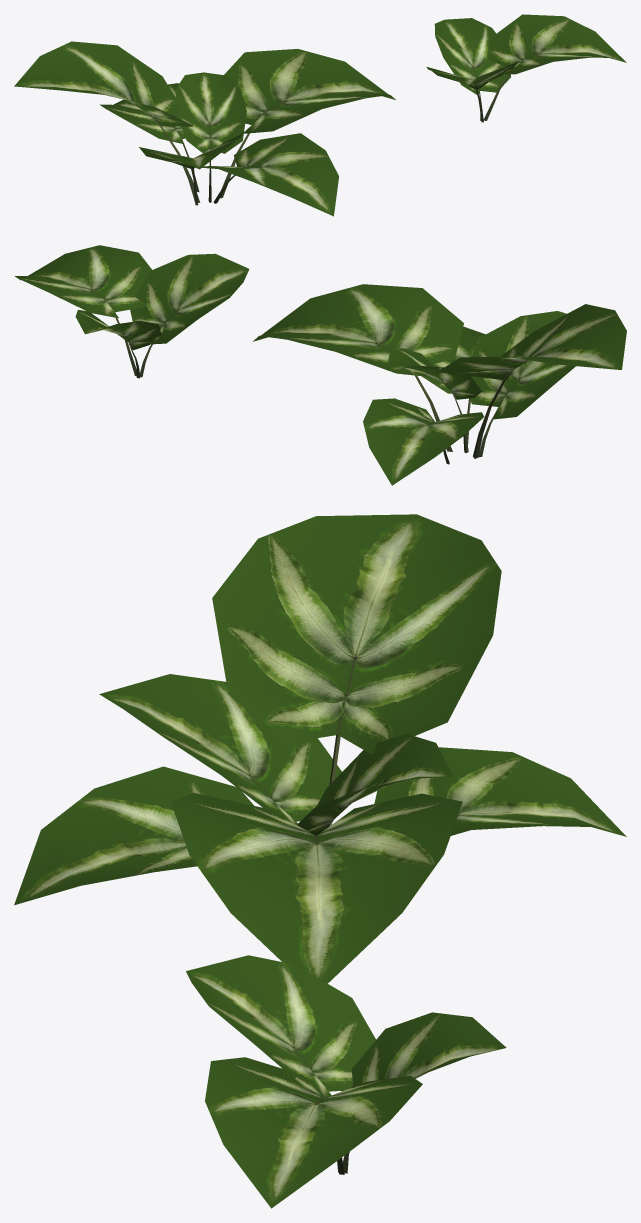
File: Spider brake.FBX
3 renders of one model, top to bottom at view 1: azimuth 30°, elevation 25°; view 2: azimuth 150°, elevation 25°; view 3: azimuth 270°, elevation 25°, orthographic. The views are drawn at different scales.
Visible parts, largest first — view 1: Spider brake, Spider brake002, Spider brake001, Spider brake003; view 2: Spider brake, Spider brake003, Spider brake002, Spider brake001; view 3: Spider brake, Spider brake002, Spider brake003, Spider brake001.
Boxes of the visible parts, <box> form: Spider brake: <box>14,41,395,216</box>; Spider brake002: <box>483,14,626,120</box>; Spider brake001: <box>434,18,510,120</box>; Spider brake003: <box>426,61,519,122</box>; Spider brake: <box>252,284,626,485</box>; Spider brake003: <box>130,253,249,377</box>; Spider brake002: <box>15,245,151,375</box>; Spider brake001: <box>75,310,161,378</box>; Spider brake: <box>14,514,626,983</box>; Spider brake002: <box>205,1057,422,1208</box>; Spider brake003: <box>186,955,375,1172</box>; Spider brake001: <box>342,1012,506,1173</box>.
Bounding box in the file's own units: 140 × 34.06 × 68.74.
